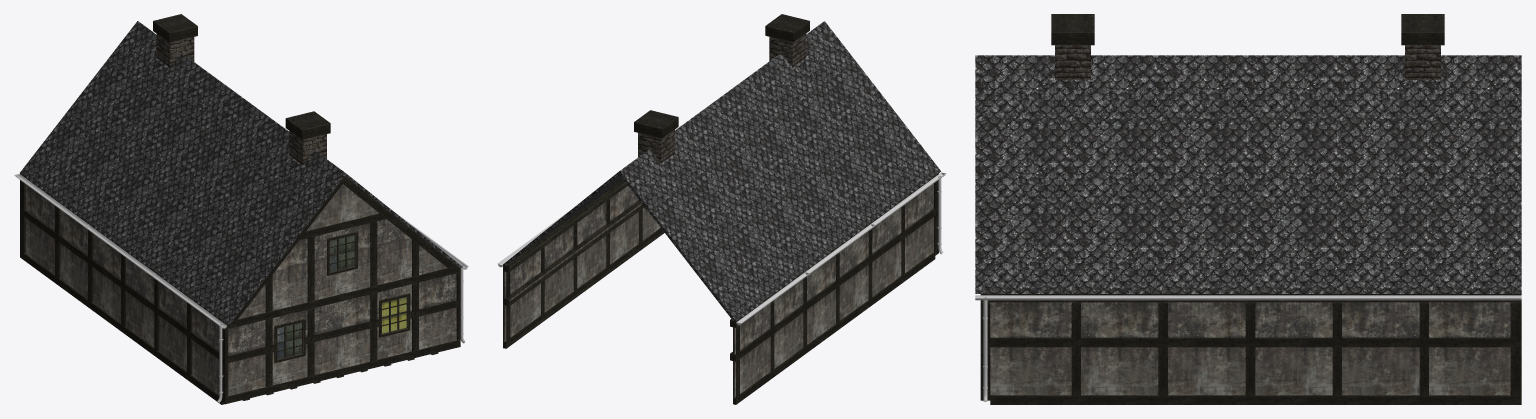
The model's file is pubroof01_lit_02.DAE.
The picture shows the model from 3 angles, left to right: view 1: azimuth 30°, elevation 25°; view 2: azimuth 150°, elevation 25°; view 3: azimuth 270°, elevation 25°; orthographic projection. The views are drawn at different scales.
Visible parts, largest first — view 1: Object110, Object111, Object109, Object113, Box048, Object112, Object116; view 2: Object110, Object111, Object109, Object113, Box048; view 3: Object110, Object111, Object109, Object113, Box048.
Part boxes in pixels (x1,y1,x2,y2): Object110: [20, 21, 462, 324]; Object111: [25, 184, 456, 396]; Object109: [20, 14, 460, 404]; Object113: [14, 174, 468, 376]; Box048: [156, 34, 326, 164]; Object112: [277, 235, 354, 358]; Object116: [382, 297, 406, 333]; Object110: [503, 21, 940, 321]; Object111: [504, 182, 933, 397]; Object109: [503, 14, 938, 404]; Object113: [497, 172, 946, 325]; Box048: [638, 34, 806, 163]; Object110: [975, 55, 1521, 293]; Object111: [990, 302, 1510, 395]; Object109: [980, 14, 1521, 404]; Object113: [975, 295, 1521, 366]; Box048: [1055, 45, 1440, 82].
Bounding box in the file's own units: 13.02 × 11.67 × 18.88.
